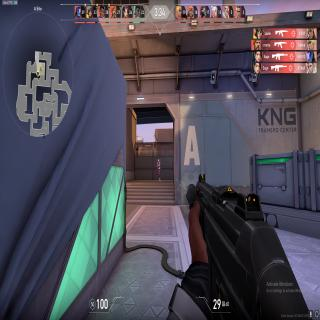ENEMY-BODY: (156, 159, 161, 182)
ENEMY-HEAD: (158, 159, 160, 163)
